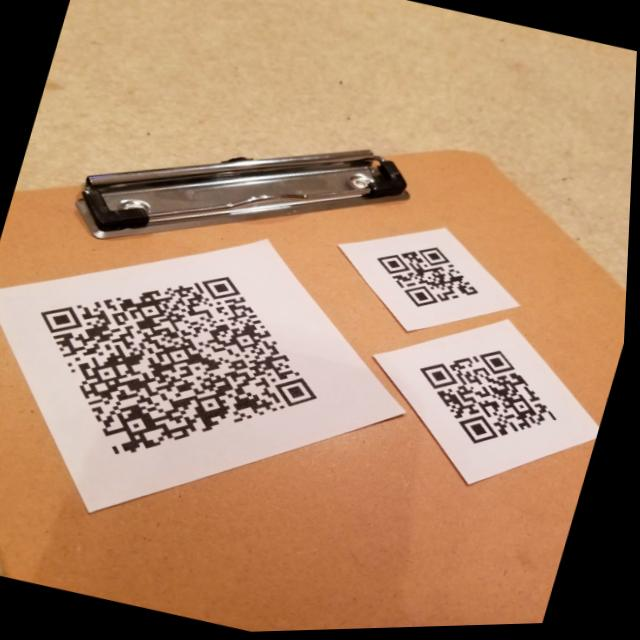QR_CODE: (0, 217, 361, 512), (393, 325, 591, 475), (354, 218, 508, 332)
